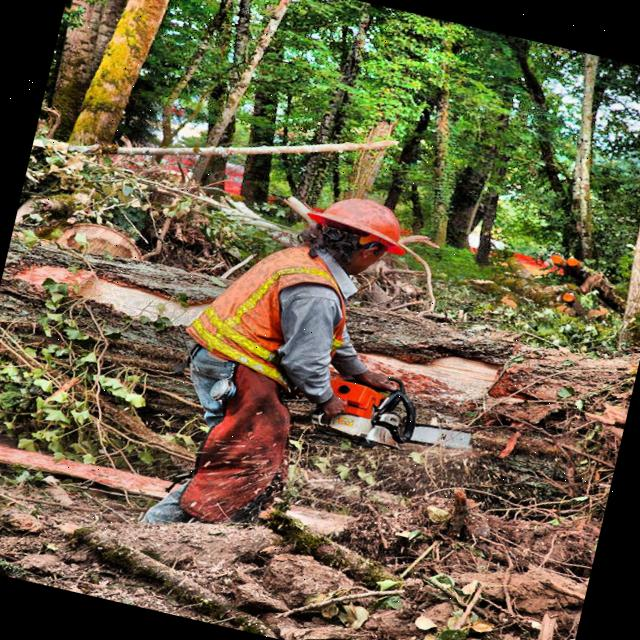helmet: (290, 179, 432, 298)
